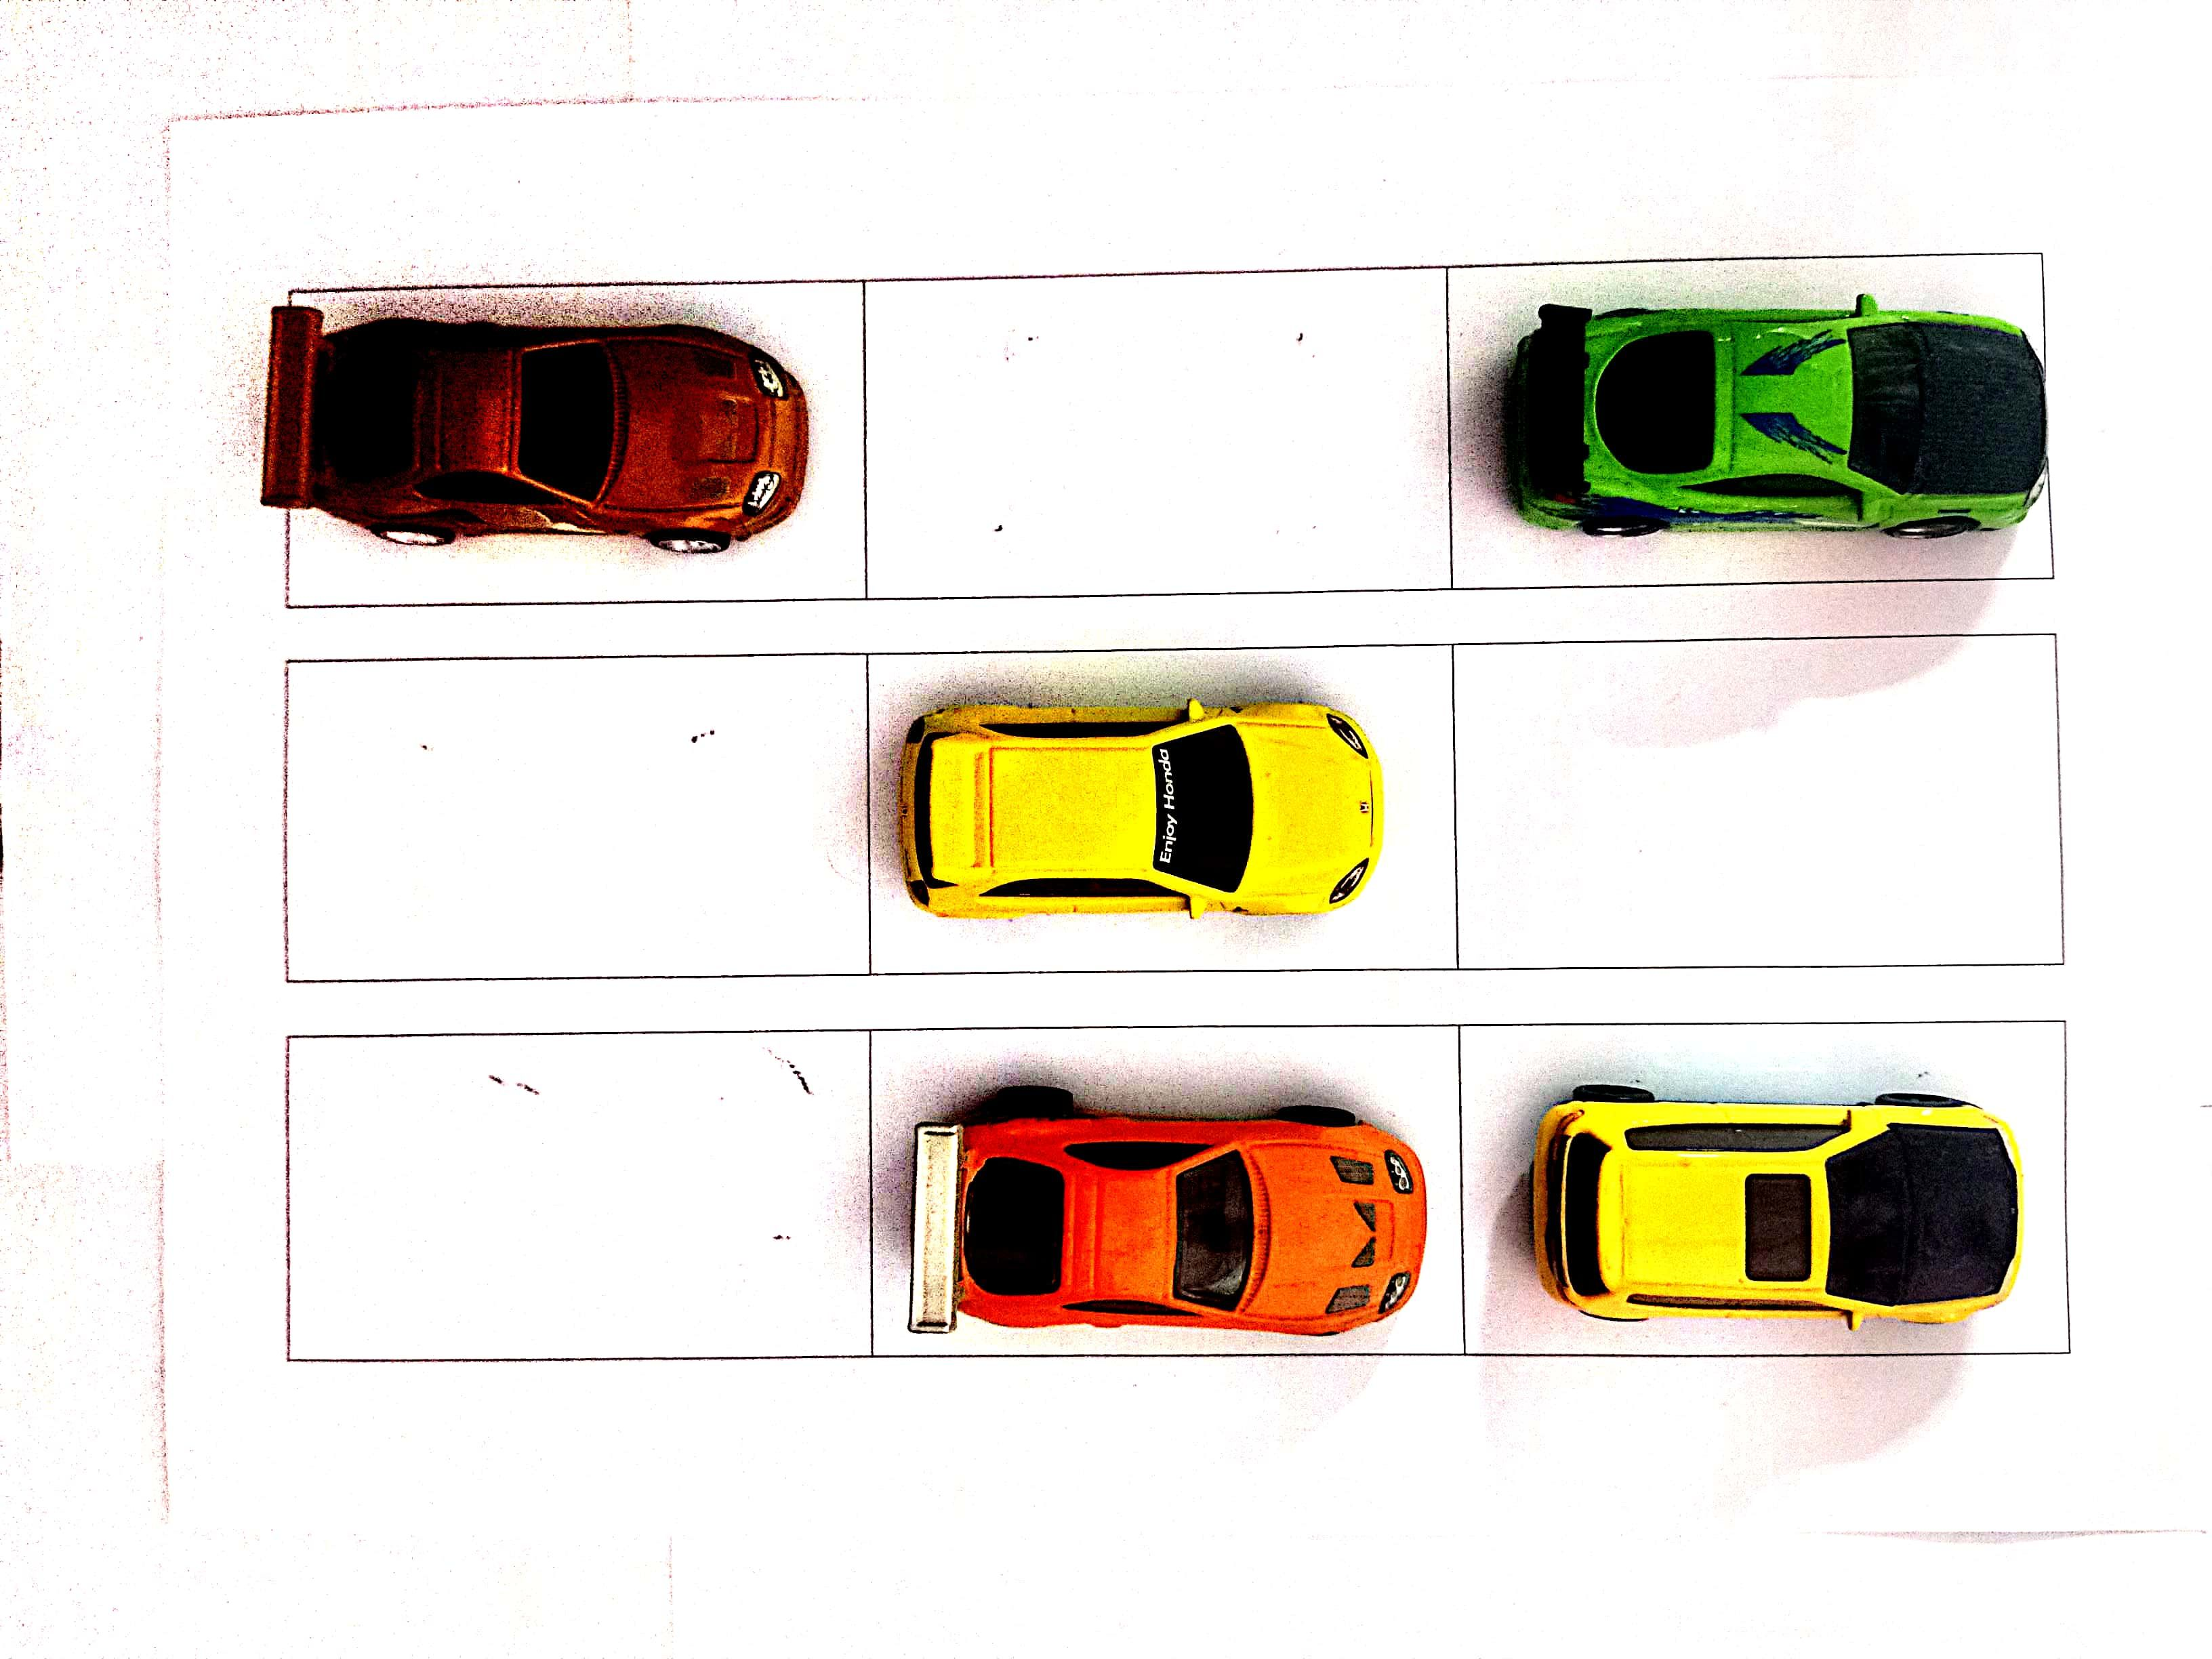Busy: (1463, 1023, 2067, 1354), (1449, 254, 2038, 593), (1458, 640, 2055, 971), (871, 1026, 1451, 1354), (869, 650, 1454, 971), (287, 284, 857, 603)
Free: (286, 1040, 871, 1358), (869, 270, 1449, 589), (291, 662, 869, 972)
